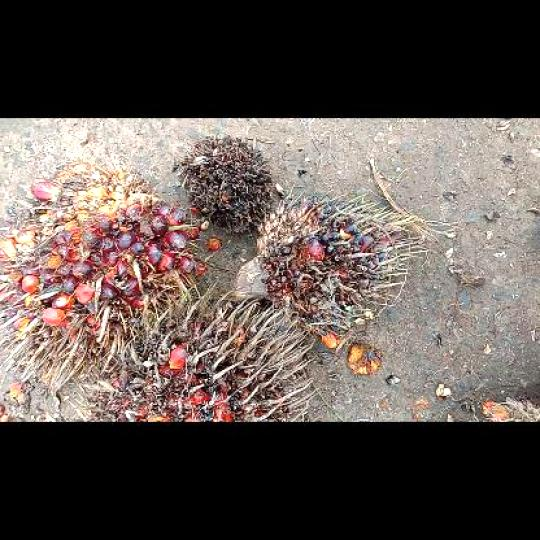masak: (0, 158, 209, 387)
terlalu masak: (81, 284, 321, 420)
